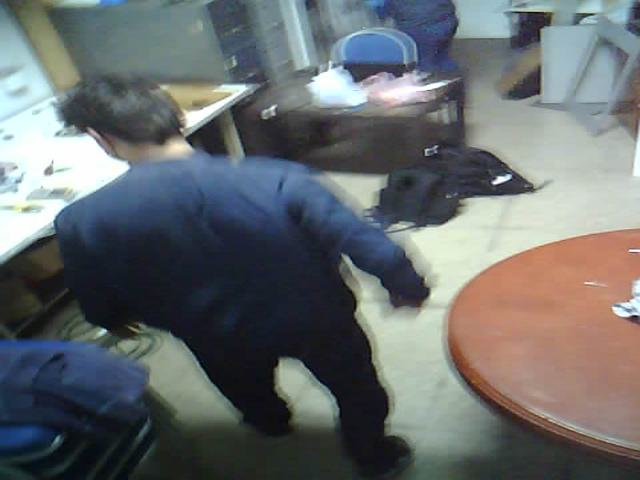person: (18, 54, 431, 477)
